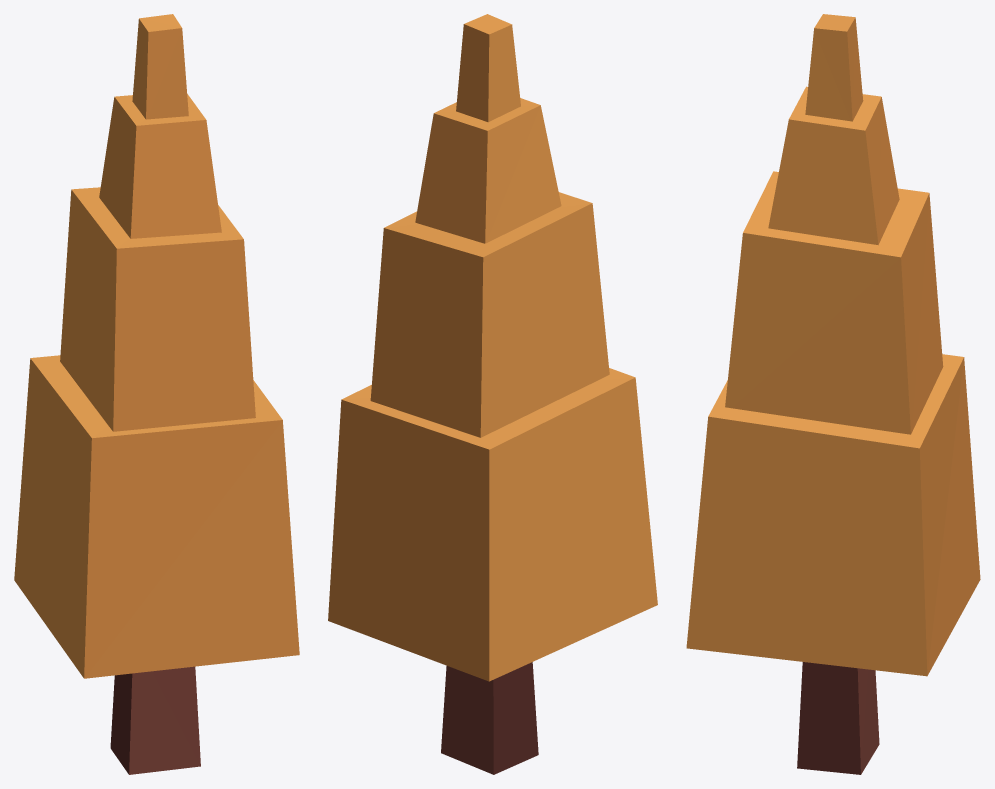
The model's file is tree_02.FBX.
3 renders of one model, left to right at view 1: azimuth 30°, elevation 25°; view 2: azimuth 150°, elevation 25°; view 3: azimuth 270°, elevation 25°, orthographic.
Parts seen in each view (by area): view 1: Tree_02; view 2: Tree_02; view 3: Tree_02.
Boxes of the visible parts, x1,y1,x2,y2 form: Tree_02: (14,14,299,774); Tree_02: (328,14,657,774); Tree_02: (686,14,980,774).
Bounding box in the file's own units: 316 × 927 × 336.
